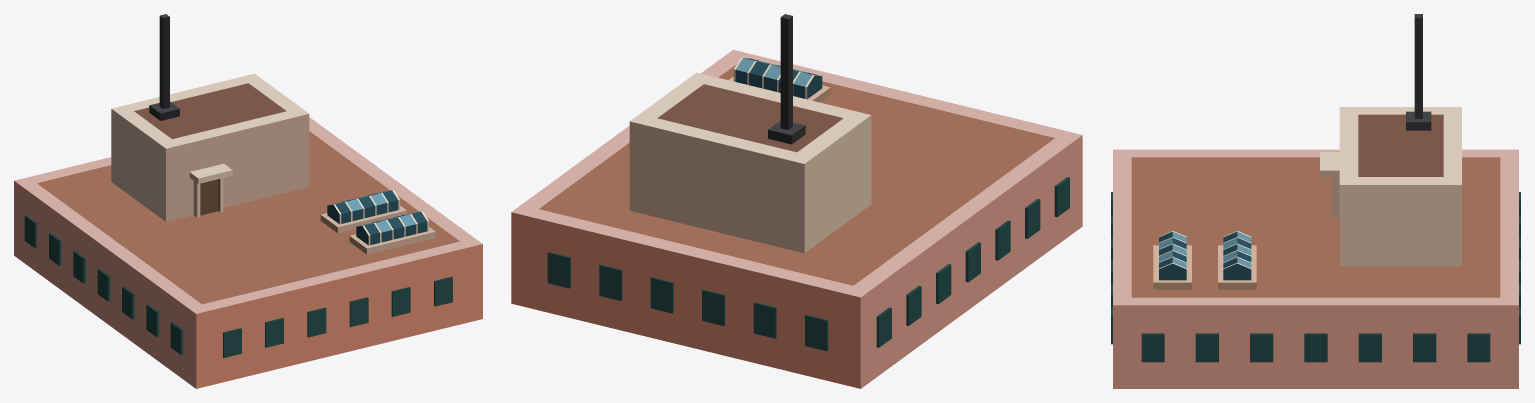
The model's file is TB_CITY_Skysc_S_Top_Brown.FBX.
The picture shows the model from 3 angles, left to right: view 1: azimuth 30°, elevation 25°; view 2: azimuth 150°, elevation 25°; view 3: azimuth 270°, elevation 25°; orthographic projection. The views are drawn at different scales.
Parts seen in each view (by area): view 1: TB_CITY_Skysc_S_Top_Brown; view 2: TB_CITY_Skysc_S_Top_Brown; view 3: TB_CITY_Skysc_S_Top_Brown.
Boxes of the visible parts, x1,y1,x2,y2 form: TB_CITY_Skysc_S_Top_Brown: [14, 14, 482, 388]; TB_CITY_Skysc_S_Top_Brown: [511, 14, 1082, 388]; TB_CITY_Skysc_S_Top_Brown: [1111, 14, 1520, 388].
Size of the model in its own units: 20.32 by 16.44 by 22.23.
